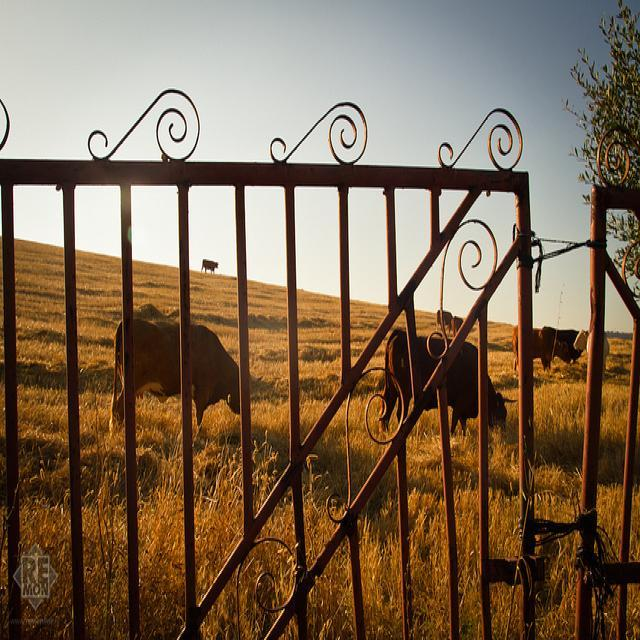cow: (108, 316, 263, 435), (511, 324, 570, 369), (571, 327, 608, 382), (540, 324, 581, 361), (434, 308, 451, 329), (449, 313, 462, 337), (199, 256, 217, 273), (429, 337, 443, 354)
